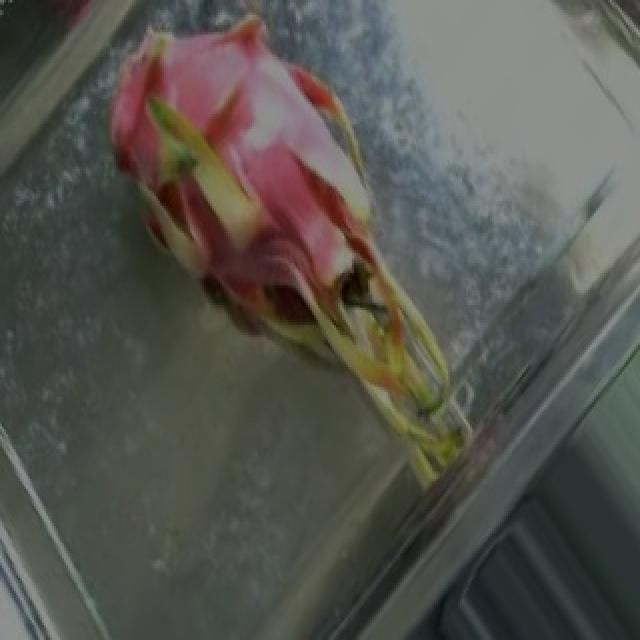fruit: (34, 0, 456, 434)
